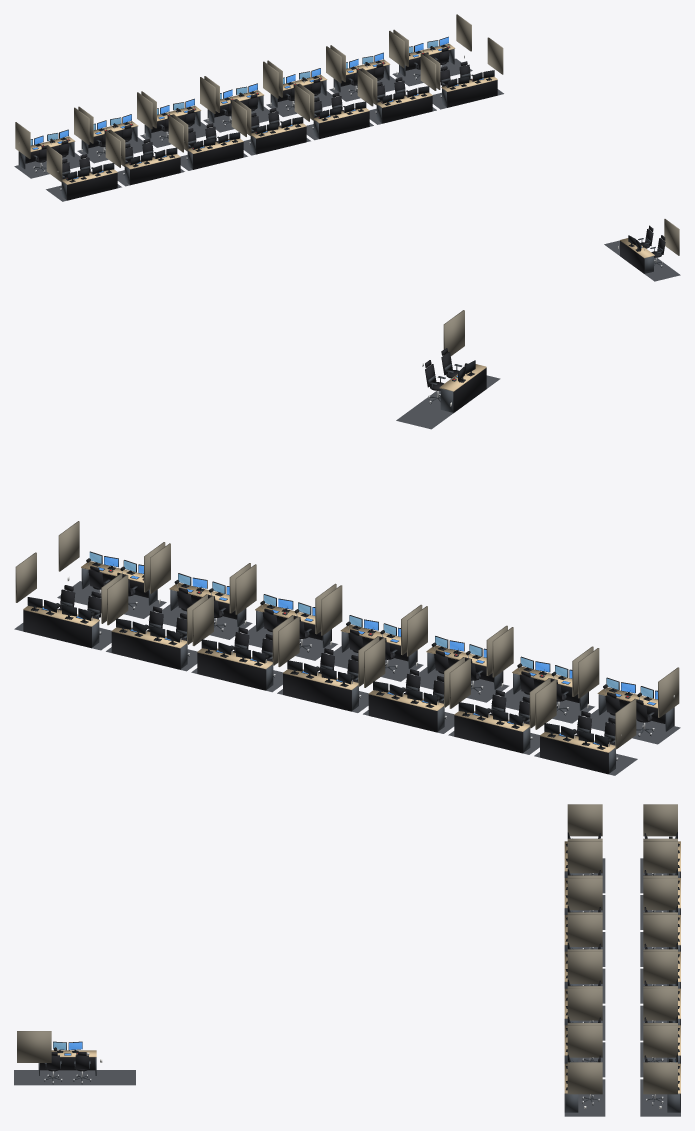
The model's file is 21_n2_circulacion_gesell.glb.
3 views of the same model, one above another, from view 1: azimuth 30°, elevation 25°; view 2: azimuth 150°, elevation 25°; view 3: azimuth 270°, elevation 25° (orthographic). The views are drawn at different scales.
Parts seen in each view (by area): view 1: mesa_gesell_240 (×14), panel_acustico (×17), mesa_gesell_200, piso · Cabina Gesell.014, piso · Cabina Gesell.024, piso · Cabina Gesell.020, piso · Cabina Gesell.018, piso · Cabina Gesell.017, piso · Cabina Gesell.016, piso · Cabina Gesell.015, piso · Cabina Gesell.019; view 2: mesa_gesell_240 (×14), panel_acustico (×17), mesa_gesell_200, piso · Cabina Gesell.024, piso · Cabina Gesell.007, piso · Cabina Gesell.013, piso · Cabina Gesell.008, piso · Cabina Gesell.010, piso · Cabina Gesell.011, piso · Cabina Gesell.009, piso · Cabina Gesell.012; view 3: panel_acustico (×17), piso · Cabina Gesell.024, mesa_gesell_200, piso · Cabina Gesell.013, piso · Cabina Gesell.020.
Boxes of the visible parts, x1,y1,x2,y2 form: mesa_gesell_240 (×14): [18, 36, 497, 200]; panel_acustico (×17): [15, 14, 679, 255]; mesa_gesell_200: [620, 235, 654, 273]; piso · Cabina Gesell.014: [14, 152, 90, 178]; piso · Cabina Gesell.024: [604, 240, 680, 281]; piso · Cabina Gesell.020: [392, 58, 472, 86]; piso · Cabina Gesell.018: [266, 91, 342, 116]; piso · Cabina Gesell.017: [203, 106, 279, 132]; piso · Cabina Gesell.016: [140, 122, 216, 147]; piso · Cabina Gesell.015: [77, 137, 153, 163]; piso · Cabina Gesell.019: [329, 76, 405, 101]; mesa_gesell_240 (×14): [23, 551, 674, 774]; panel_acustico (×17): [15, 310, 679, 749]; mesa_gesell_200: [439, 360, 486, 412]; piso · Cabina Gesell.024: [396, 375, 500, 429]; piso · Cabina Gesell.007: [577, 709, 680, 744]; piso · Cabina Gesell.013: [57, 581, 166, 618]; piso · Cabina Gesell.008: [491, 688, 594, 723]; piso · Cabina Gesell.010: [320, 646, 423, 681]; piso · Cabina Gesell.011: [234, 625, 337, 660]; piso · Cabina Gesell.009: [405, 667, 508, 702]; piso · Cabina Gesell.012: [148, 604, 252, 639]; panel_acustico (×17): [17, 804, 677, 1094]; piso · Cabina Gesell.024: [14, 1070, 135, 1085]; mesa_gesell_200: [38, 1041, 96, 1075]; piso · Cabina Gesell.013: [564, 1079, 605, 1116]; piso · Cabina Gesell.020: [640, 1079, 680, 1116].
Bounding box in the file's own units: 21.05 × 2.05 × 22.95.
15 materials, 3 textured.
